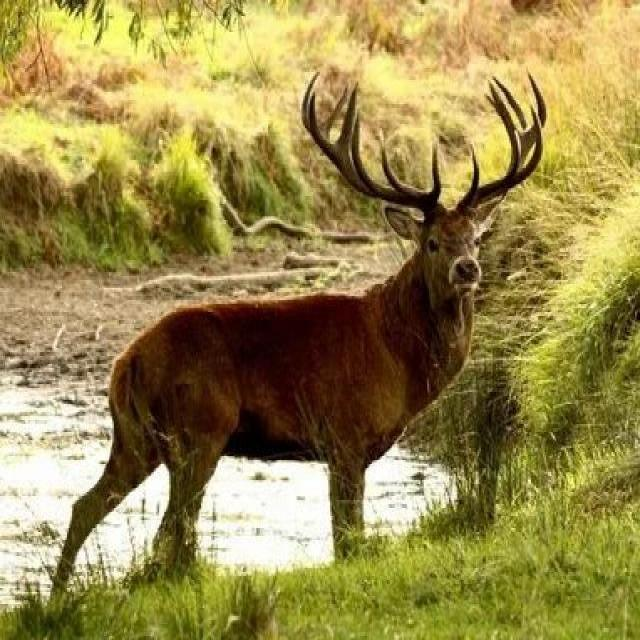deer: (60, 36, 578, 588)
